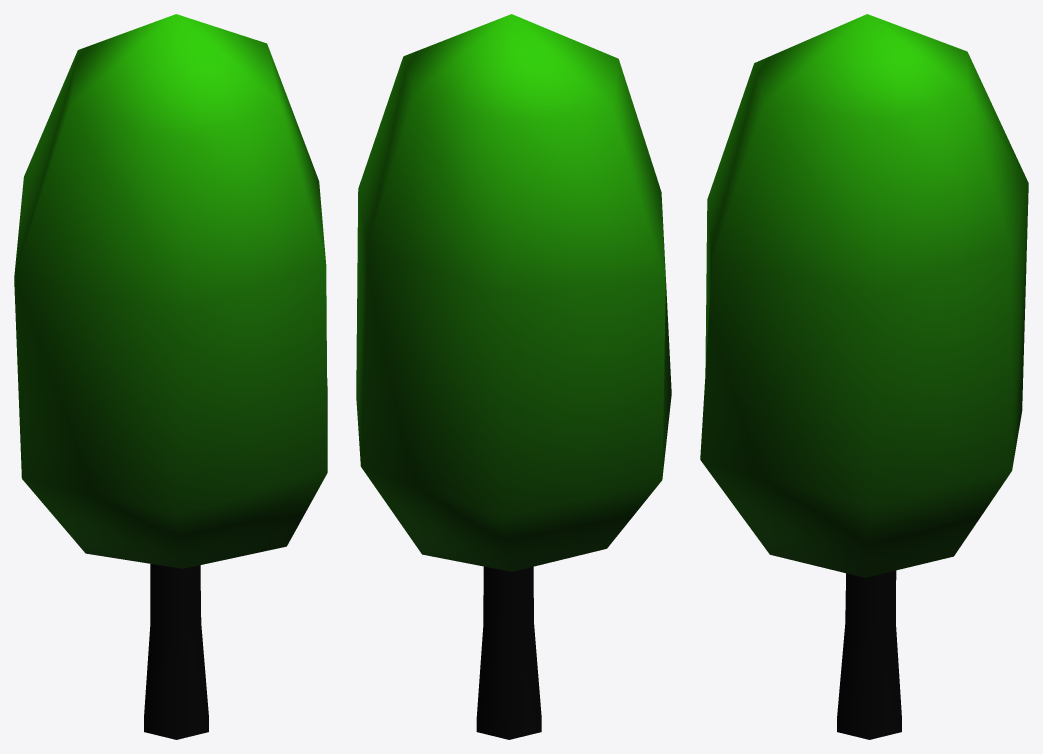
Rendered from Universal_Plant_Tree_03_Mod.fbx.
The picture shows the model from 3 angles, left to right: view 1: azimuth 30°, elevation 25°; view 2: azimuth 150°, elevation 25°; view 3: azimuth 270°, elevation 25°; orthographic projection.
Visible parts, largest first — view 1: Universal_Plant_Tree_03_Mod; view 2: Universal_Plant_Tree_03_Mod; view 3: Universal_Plant_Tree_03_Mod.
Part boxes in pixels (x1,y1,x2,y2): Universal_Plant_Tree_03_Mod: [14, 14, 327, 739]; Universal_Plant_Tree_03_Mod: [356, 14, 671, 739]; Universal_Plant_Tree_03_Mod: [700, 14, 1028, 739].
Bounding box in the file's own units: 282 × 615 × 258.
